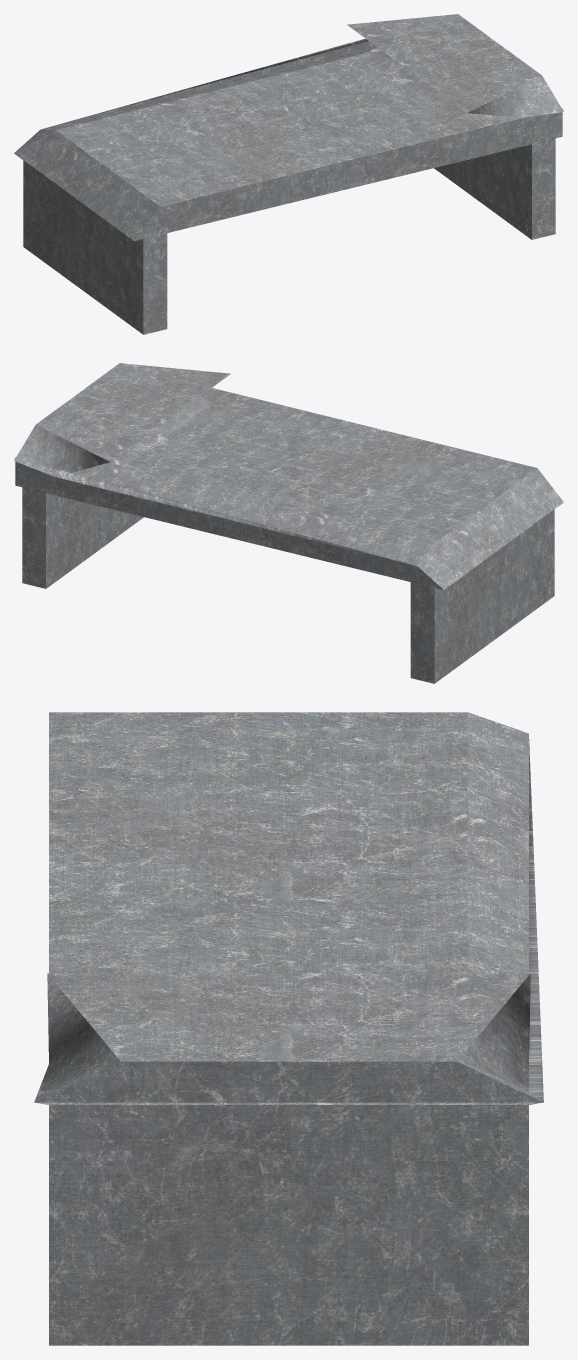
Rendered from BLOCKYGON_BED.fbx.
The picture shows the model from 3 angles, top to bottom: view 1: azimuth 30°, elevation 25°; view 2: azimuth 150°, elevation 25°; view 3: azimuth 270°, elevation 25°; orthographic projection. The views are drawn at different scales.
Parts seen in each view (by area): view 1: BLOCKYGON_BED; view 2: BLOCKYGON_BED; view 3: BLOCKYGON_BED.
Boxes of the visible parts, box(x1,y1,x2,y2) form: BLOCKYGON_BED: box(14, 14, 563, 334); BLOCKYGON_BED: box(14, 363, 563, 683); BLOCKYGON_BED: box(34, 712, 543, 1345).
Size of the model in its own units: 208 by 66.89 by 107.
